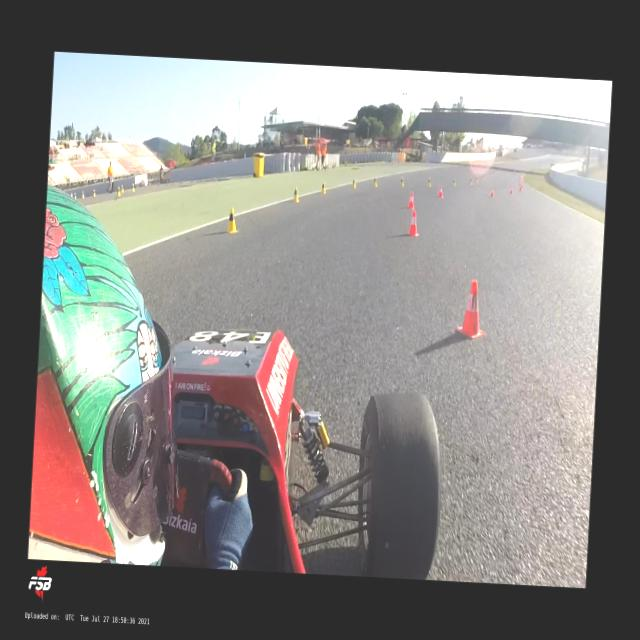orange_cone: (456, 278, 487, 339), (406, 209, 419, 237), (408, 192, 416, 210), (438, 185, 444, 198), (490, 187, 494, 198), (510, 186, 513, 194), (520, 185, 522, 192)
yellow_cone: (227, 206, 240, 234), (292, 185, 300, 202), (321, 180, 326, 194), (400, 176, 405, 188), (352, 177, 356, 189), (374, 176, 378, 188), (428, 177, 432, 188), (117, 186, 121, 196), (452, 178, 456, 186), (92, 188, 96, 196), (132, 184, 136, 192), (82, 191, 85, 199), (121, 186, 124, 193), (475, 177, 478, 183), (74, 192, 77, 198), (470, 177, 472, 184)
